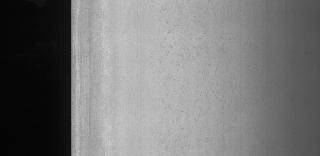silk spot: (154, 3, 246, 151)
